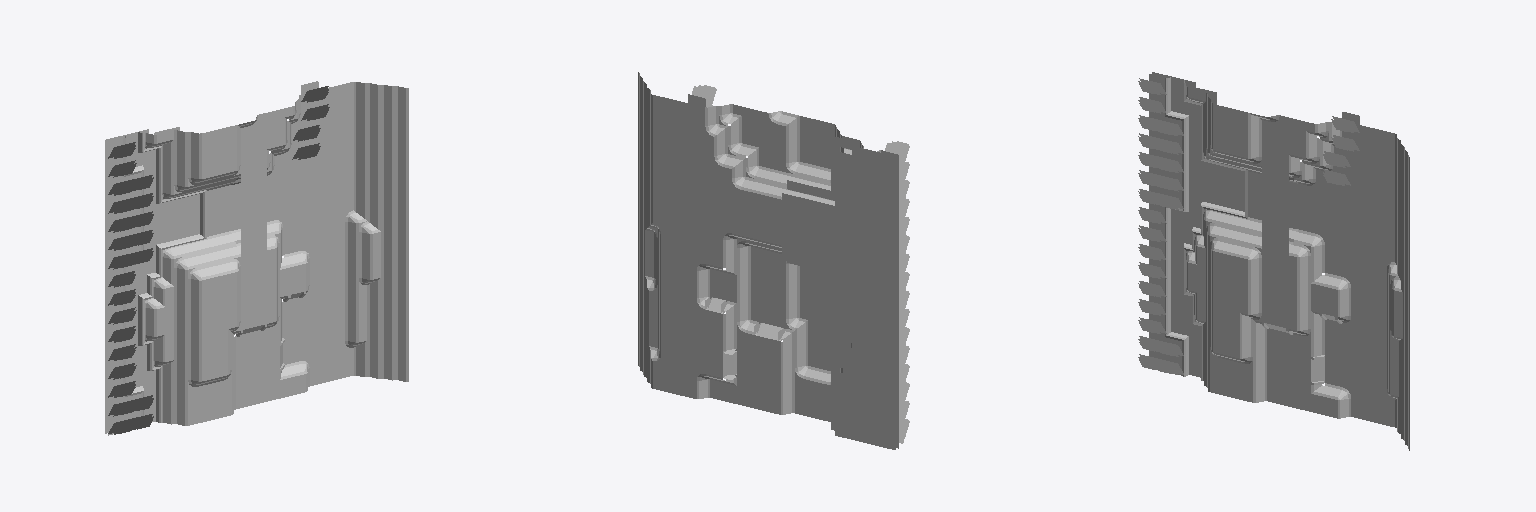
The model's file is Plat_full_05_13.obj.
The picture shows the model from 3 angles: view 1: azimuth 30°, elevation 25°; view 2: azimuth 150°, elevation 25°; view 3: azimuth 330°, elevation 25°; orthographic projection.
Parts seen in each view (by area): view 1: map; view 2: map; view 3: map.
Part boxes in pixels (left/top/right/bottom): map: left=105, top=81, right=408, bottom=435; map: left=638, top=72, right=909, bottom=449; map: left=1138, top=72, right=1409, bottom=450.
Size of the model in its own units: 32.25 by 33.12 by 4.5.